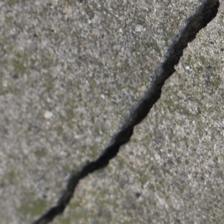Crack: (19, 3, 197, 217)
